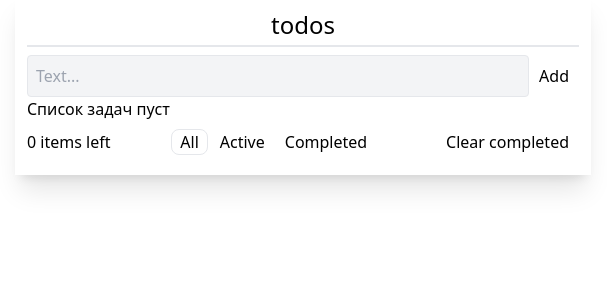
Scenario: App component › should add new todo,
Type "todo1" into the field. click: (278, 76)
box: top-left (27, 55), bottom-right (529, 97)
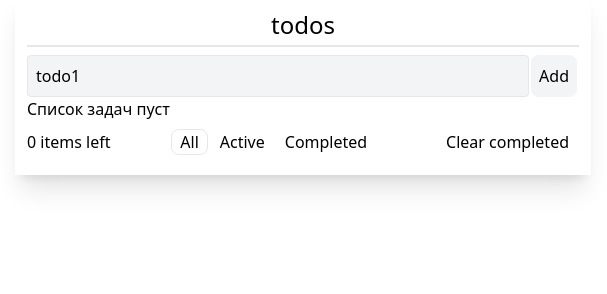
Click the button "Add". click: (554, 76)
box: top-left (531, 55), bottom-right (577, 97)
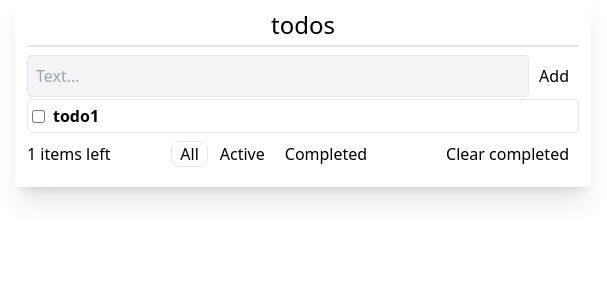
Now the text "1 items left" is shown, box top-left (27, 142), bottom-right (110, 166)
Now the text "todo1" is shown, box top-left (53, 104), bottom-right (99, 128)
Now the number of elements with class "todo" is 1, box top-left (27, 99), bottom-right (579, 133)
Type "todo2" into the field. click: (278, 76)
box: top-left (27, 55), bottom-right (529, 97)
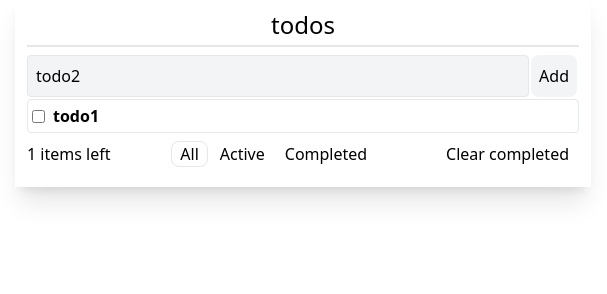
Click the button "Add". click: (554, 76)
box: top-left (531, 55), bottom-right (577, 97)
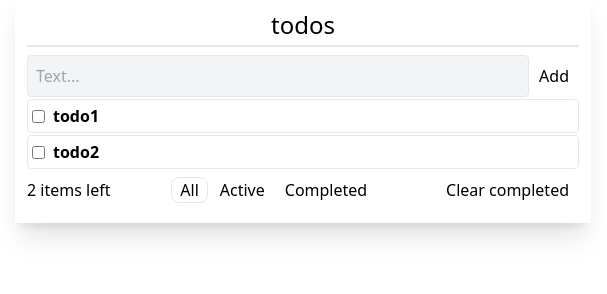
Now the text "2 items left" is shown, box top-left (27, 178), bottom-right (110, 202)
Now the text "todo2" is shown, box top-left (53, 140), bottom-right (99, 164)
Now the number of elements with class "todo" is 2, box top-left (27, 99), bottom-right (579, 133); top-left (27, 135), bottom-right (579, 169)
Type "todo3" into the field. click: (278, 76)
box: top-left (27, 55), bottom-right (529, 97)
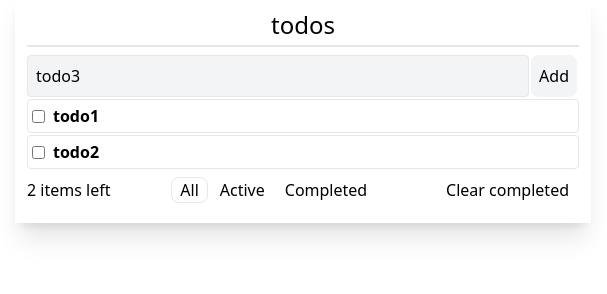
Click the button "Add". click: (554, 76)
box: top-left (531, 55), bottom-right (577, 97)
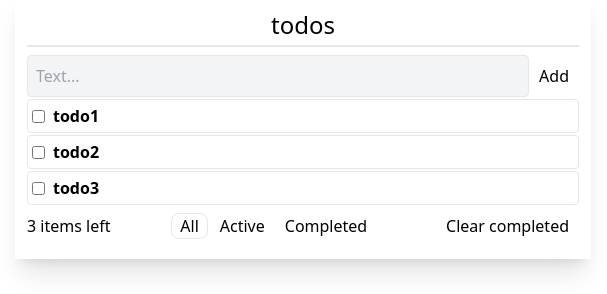
Now the text "3 items left" is shown, box top-left (27, 214), bottom-right (110, 238)
Now the text "todo3" is shown, box top-left (53, 176), bottom-right (99, 200)
Now the number of elements with class "todo" is 3, box top-left (27, 99), bottom-right (579, 133); top-left (27, 135), bottom-right (579, 169); top-left (27, 171), bottom-right (579, 205)
